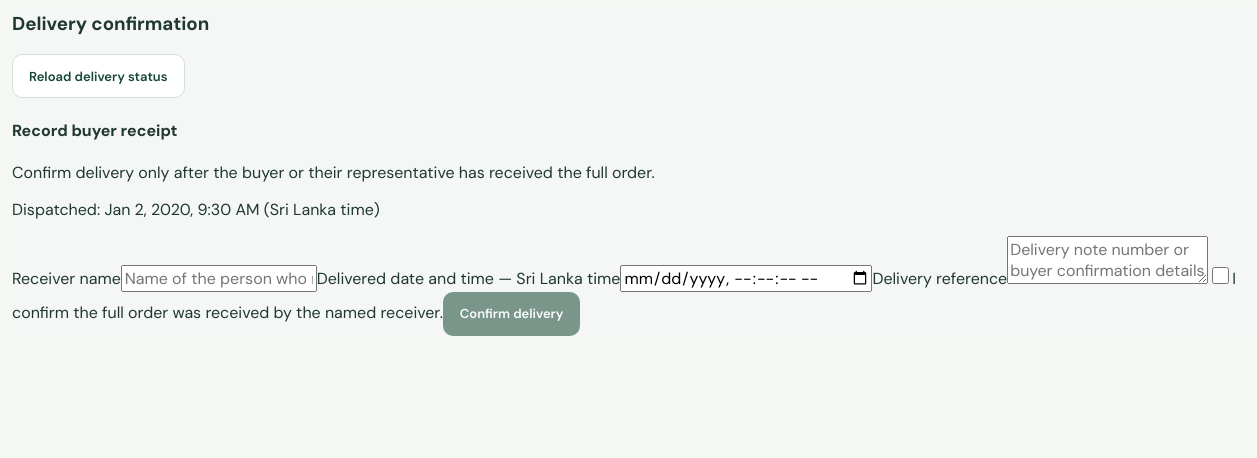
Test case: Order delivery › submits the reviewed version and Sri Lanka delivery time
Type "  Test Buyer  " into the field labelled "Receiver name". click: [219, 278]
box: [121,265,317,292]
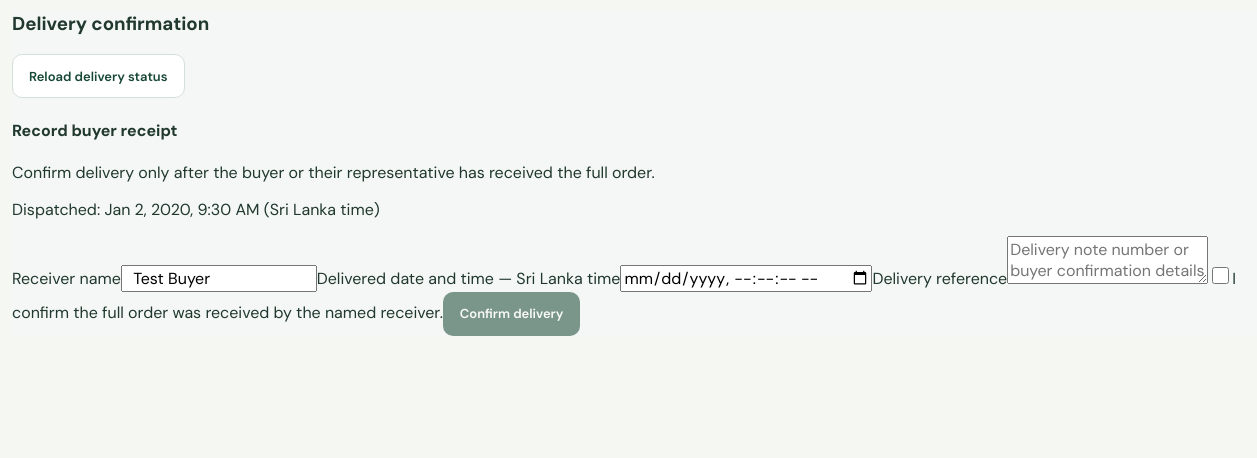
Type "2020-01-02T10:00:00" into the field labelled "Delivered date and time — Sri Lanka time". click: [746, 278]
box: [620,265,872,292]
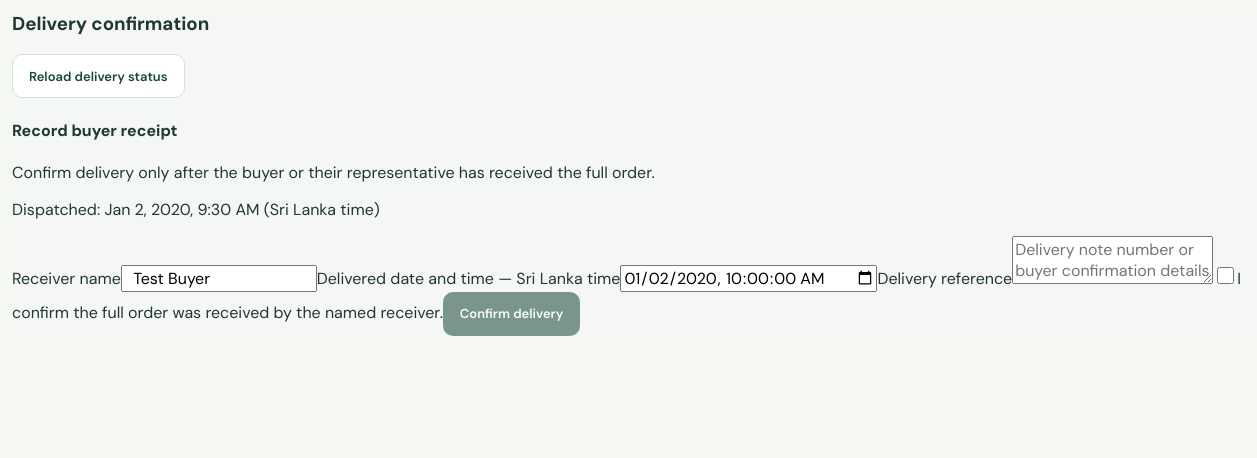
Type "  Delivery note 42  " into the text box labelled "Delivery reference". click: [1113, 260]
box: [1012,236,1213,284]
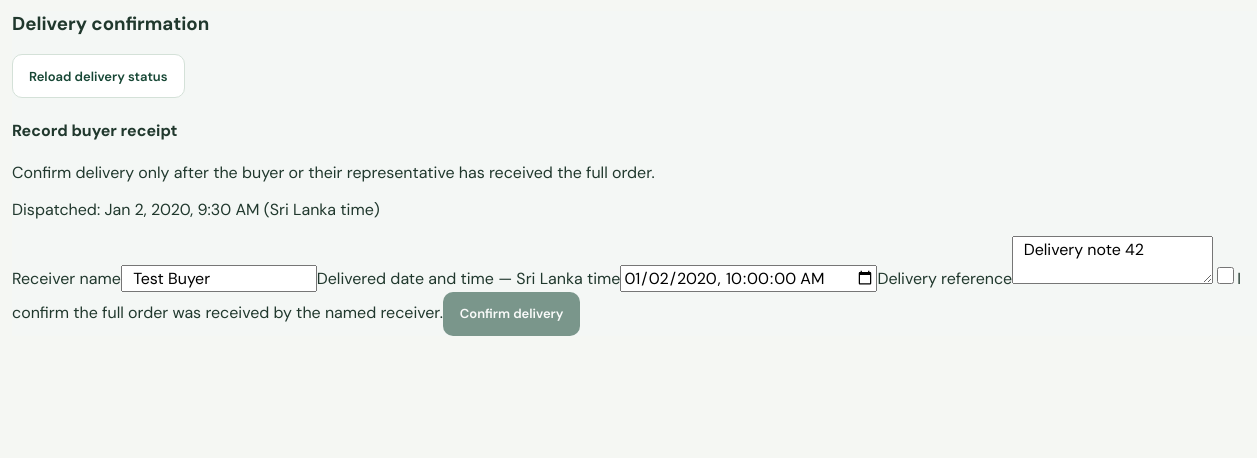
Click the checkbox labelled "I confirm the full order was received by the named receiver.". click: [1226, 276]
box: [1217,267,1234,284]
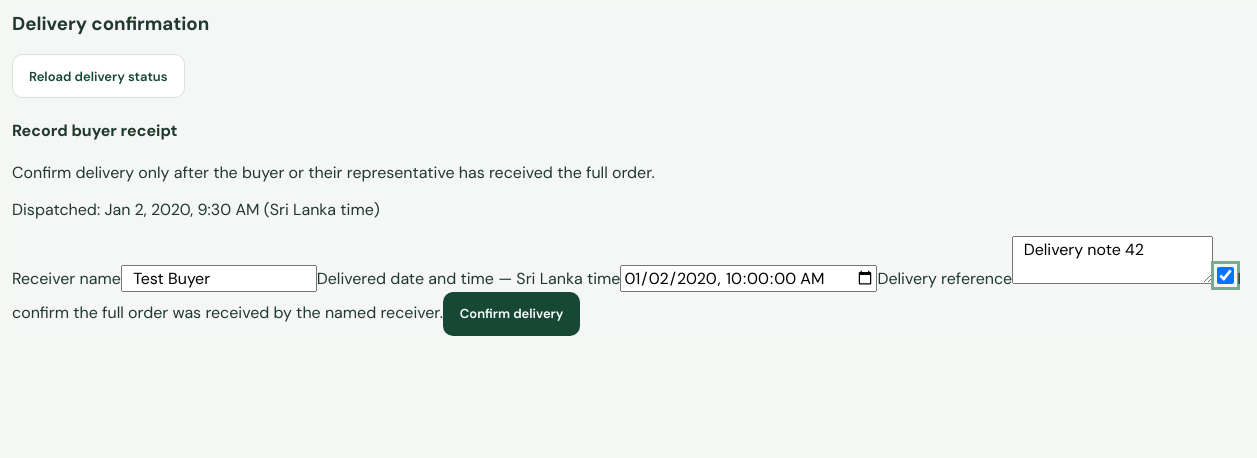
Click the button "Confirm delivery". click: [512, 314]
box: [443,292,580,336]
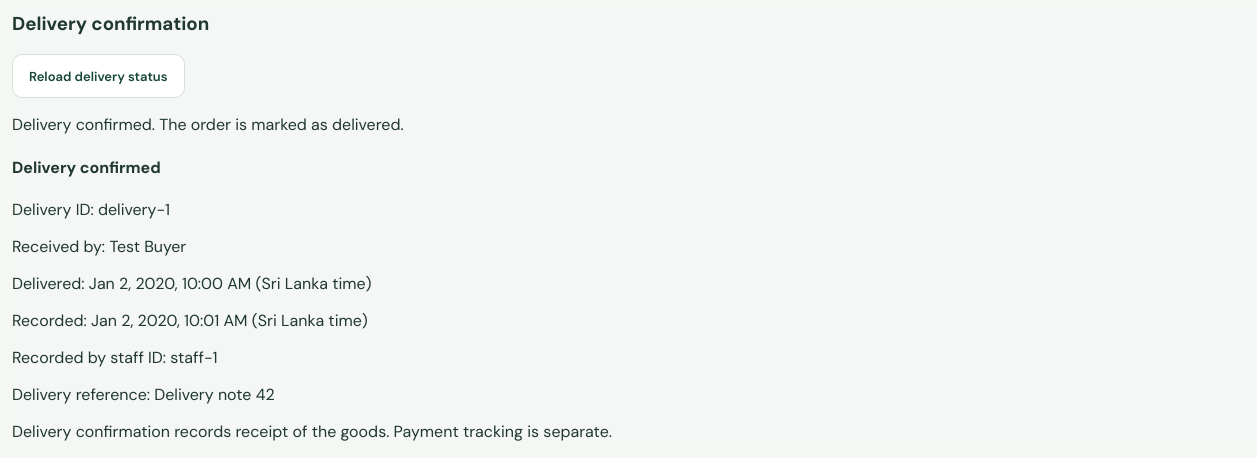
expect the heading "Delivery confirmed" is shown: met, box [12,157,161,178]
